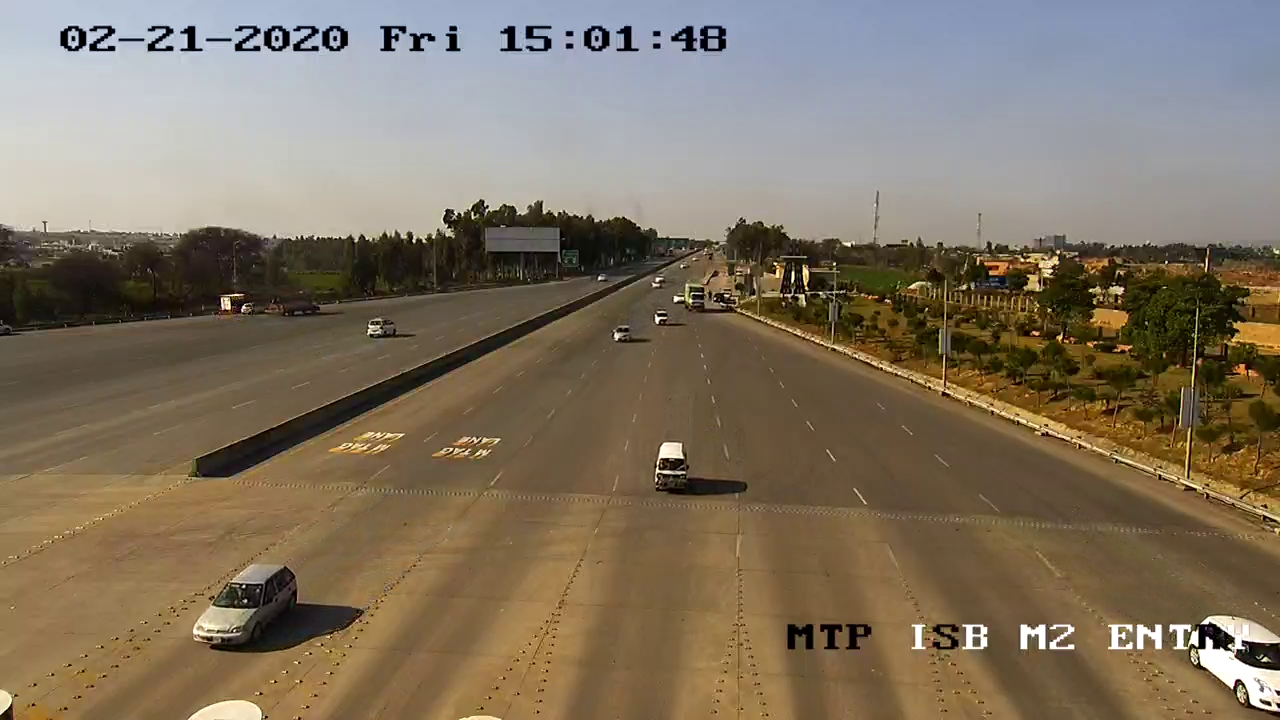f1: (175, 546, 317, 657), (636, 430, 701, 501)
